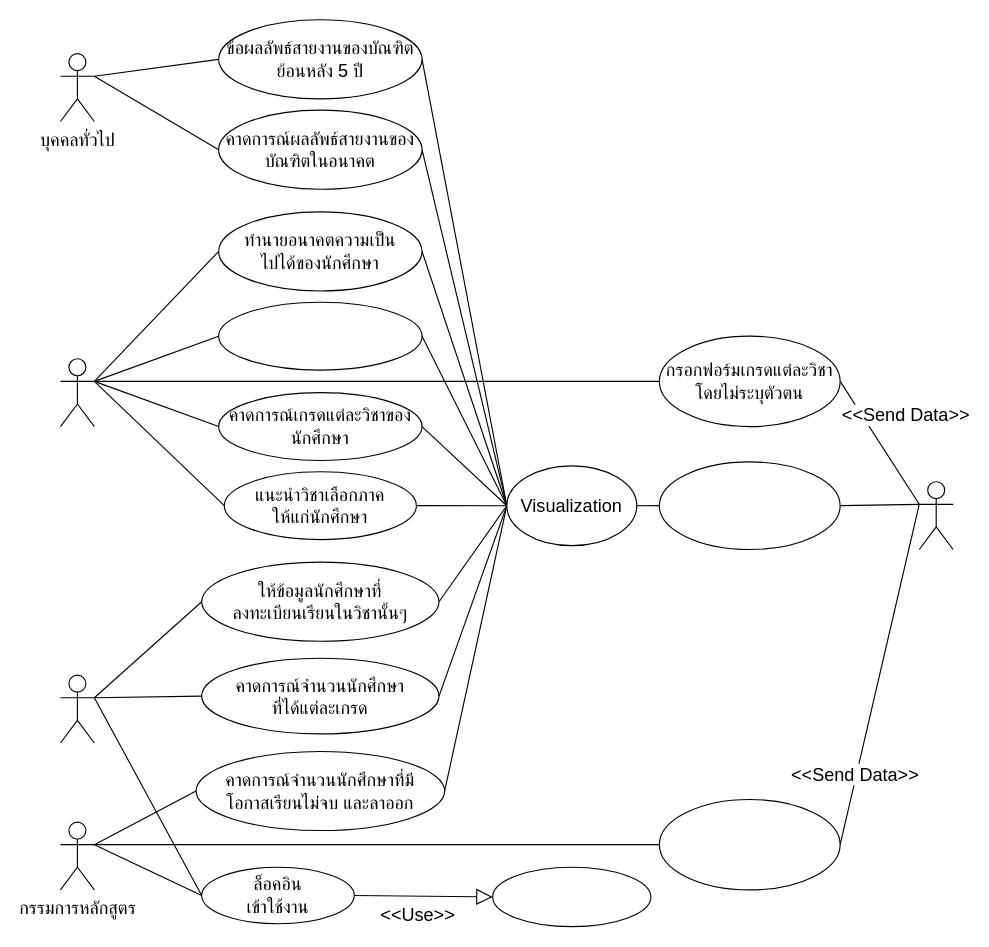
Some shapes in this 989 by 947 pixel diagram are drawn without their labels. Each missing label, with the centre of its shape:
ทำนายพยากรณ์ ผลลัพธ์และคาดการณ์: pixel 749 505
นักศึกษา: pixel 76 392
ล็อคเอ้าท์ ออกจากระบบ: pixel 571 896
อาจารย์: pixel 76 708
แสดงค่าความถนัดของนักศึกษา: pixel 320 335
แอดมิน: pixel 935 515
ให้ข้อมูลนักศึกษา โดยไม่ระบุตัวตน: pixel 749 844
